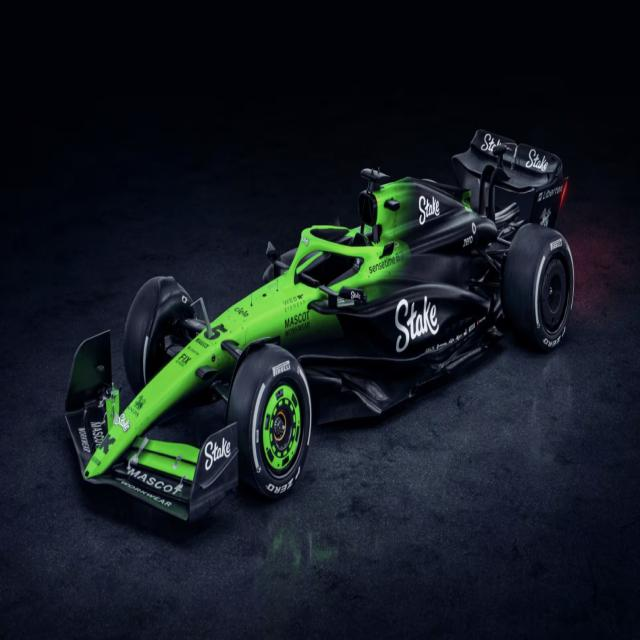Kick Sauber: (61, 123, 578, 528)
